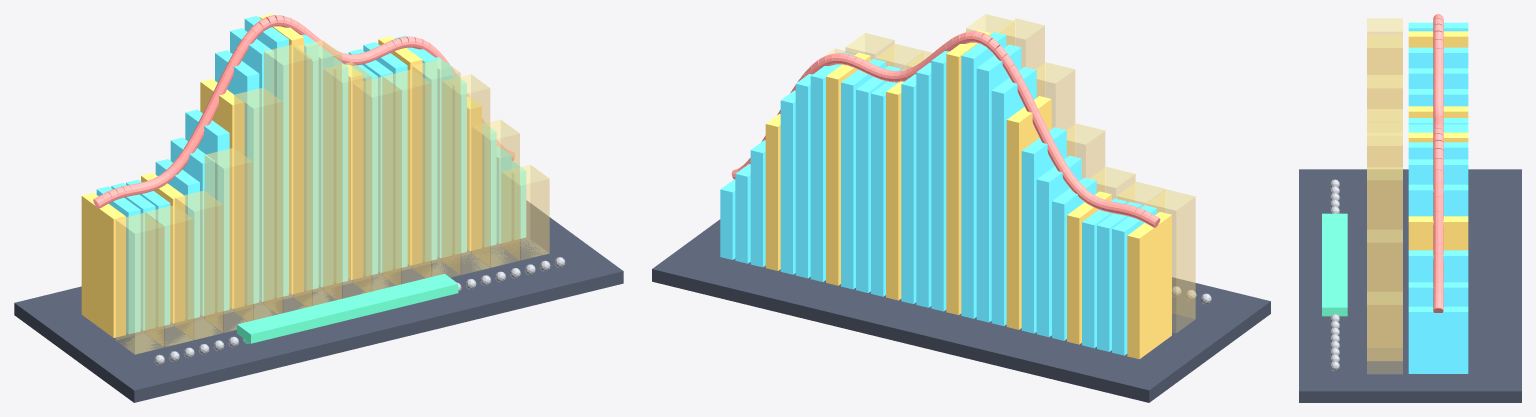
Rendered from hyperfinite_riemann_loeb.glb.
3 renders of one model, left to right at view 1: azimuth 30°, elevation 25°; view 2: azimuth 150°, elevation 25°; view 3: azimuth 270°, elevation 25°, orthographic. The views are drawn at different scales.
Parts seen in each view (by area): view 1: Mesh_ShadowShell, Mesh_InfinitesimalCyan, Mesh_ObsidianSlate, Mesh_HyperGold, Mesh_UnlimitedCoral, Mesh_GalaxyEmerald, Mesh_StandardSilver; view 2: Mesh_InfinitesimalCyan, Mesh_ObsidianSlate, Mesh_HyperGold, Mesh_ShadowShell, Mesh_UnlimitedCoral; view 3: Mesh_ObsidianSlate, Mesh_InfinitesimalCyan, Mesh_ShadowShell, Mesh_HyperGold, Mesh_UnlimitedCoral, Mesh_GalaxyEmerald, Mesh_StandardSilver.
Part boxes in pixels (left/top/right/bottom): Mesh_ShadowShell: left=115, top=40, right=549, bottom=354; Mesh_InfinitesimalCyan: left=96, top=16, right=526, bottom=334; Mesh_ObsidianSlate: left=14, top=200, right=623, bottom=402; Mesh_HyperGold: left=81, top=14, right=481, bottom=337; Mesh_UnlimitedCoral: left=93, top=15, right=514, bottom=208; Mesh_GalaxyEmerald: left=237, top=274, right=458, bottom=343; Mesh_StandardSilver: left=154, top=257, right=565, bottom=365; Mesh_InfinitesimalCyan: left=720, top=32, right=1156, bottom=355; Mesh_ObsidianSlate: left=652, top=219, right=1270, bottom=402; Mesh_HyperGold: left=765, top=30, right=1171, bottom=359; Mesh_ShadowShell: left=824, top=14, right=1195, bottom=332; Mesh_UnlimitedCoral: left=731, top=31, right=1160, bottom=227; Mesh_ObsidianSlate: left=1299, top=169, right=1521, bottom=402; Mesh_InfinitesimalCyan: left=1408, top=22, right=1468, bottom=373; Mesh_ShadowShell: left=1367, top=18, right=1402, bottom=373; Mesh_HyperGold: left=1408, top=31, right=1468, bottom=250; Mesh_UnlimitedCoral: left=1433, top=14, right=1443, bottom=312; Mesh_GalaxyEmerald: left=1322, top=213, right=1347, bottom=316; Mesh_StandardSilver: left=1329, top=179, right=1339, bottom=371.
Size of the model in its own units: 0.66 by 0.3609 by 0.28.
